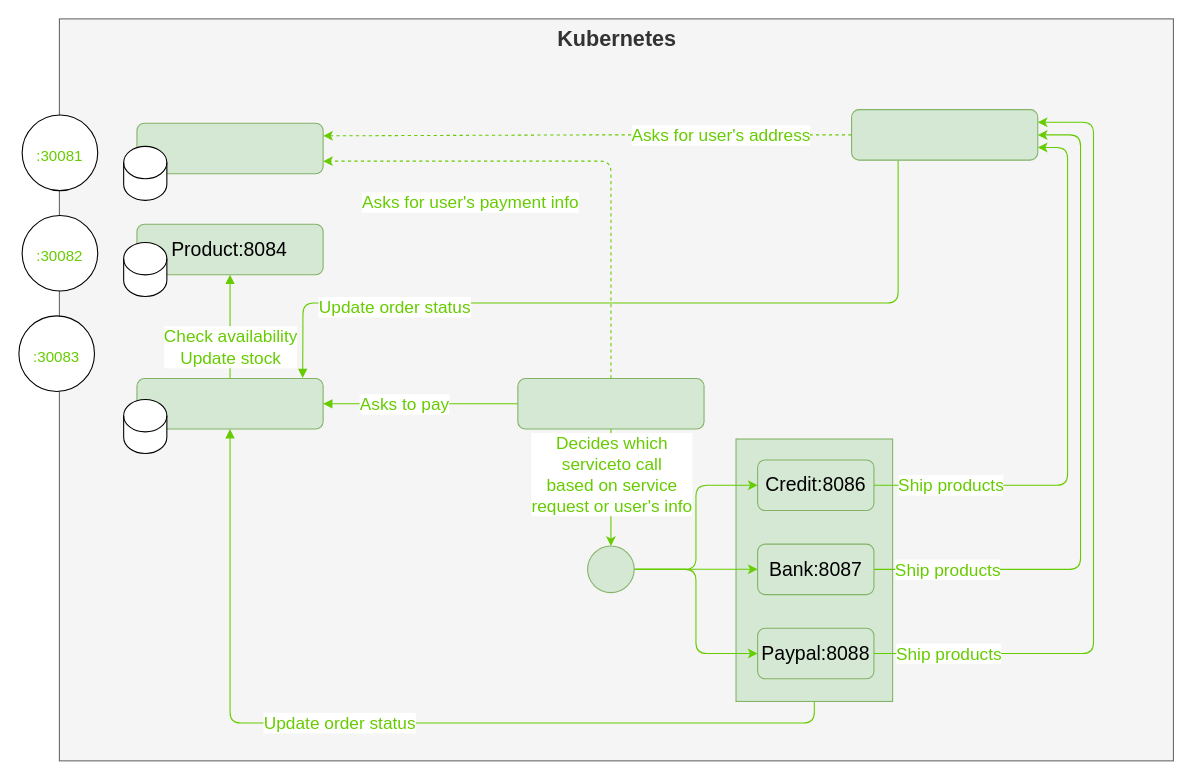
Some shapes in this 1192 by 780 pixel diagram are drawn without their labels. The box of each missing label's shape, as (x1, y1, x2, y2) in pixels:
Account:8081: (136, 122, 323, 174)
Order:8083: (136, 377, 323, 429)
Payment:8085: (517, 377, 704, 429)
Shipment:8082: (850, 109, 1038, 160)
